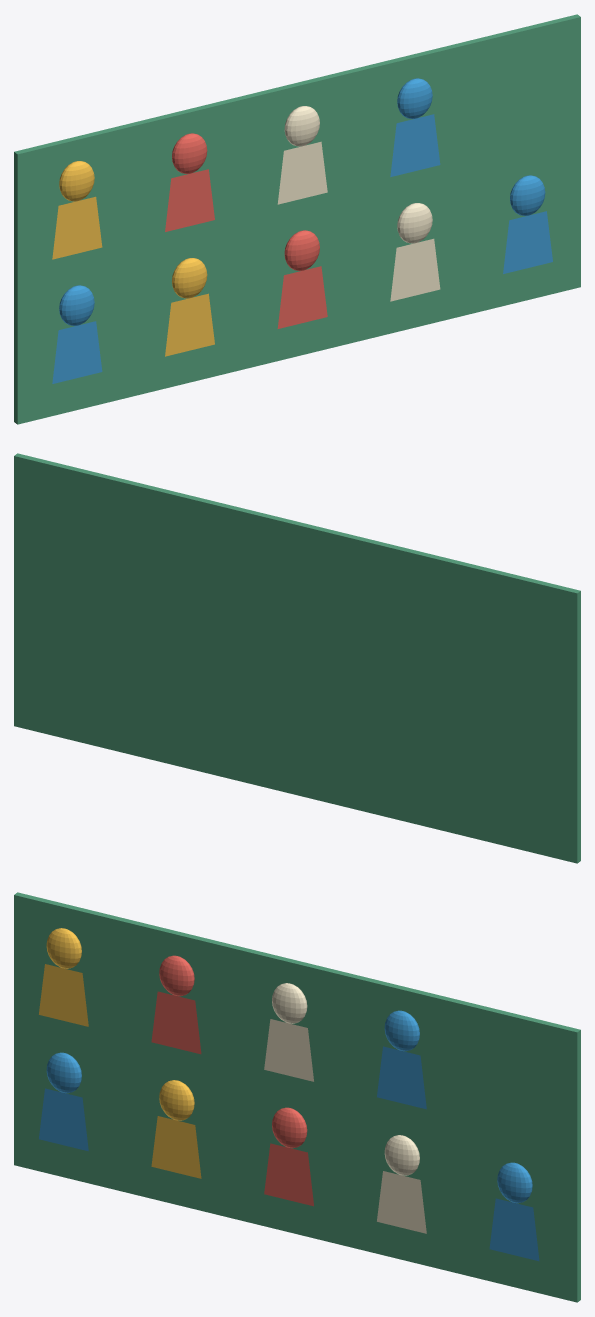
Rendered from crowd-impostor-card-set.glb.
The picture shows the model from 3 angles, top to bottom: view 1: azimuth 30°, elevation 25°; view 2: azimuth 150°, elevation 25°; view 3: azimuth 330°, elevation 25°; orthographic projection.
Parts seen in each view (by area): view 1: Crowd card | backing, Crowd card | torso 4, Crowd card | torso 6, Crowd card | torso 1, Crowd card | torso 8, Crowd card | torso 9, Crowd card | torso 2, Crowd card | torso 3, Crowd card | torso 5, Crowd card | torso 7, Crowd card | head 9, Crowd card | head 6 (+7 smaller); view 2: Crowd card | backing; view 3: Crowd card | backing, Crowd card | torso 5, Crowd card | torso 2, Crowd card | torso 7, Crowd card | torso 3, Crowd card | torso 1, Crowd card | torso 6, Crowd card | torso 8, Crowd card | torso 9, Crowd card | torso 4, Crowd card | head 2, Crowd card | head 1 (+7 smaller).
Part boxes in pixels (left/top/right/bottom): Crowd card | backing: left=14, top=14, right=580, bottom=424; Crowd card | torso 4: left=390, top=238, right=440, bottom=301; Crowd card | torso 6: left=52, top=196, right=102, bottom=259; Crowd card | torso 1: left=52, top=321, right=102, bottom=383; Crowd card | torso 8: left=277, top=141, right=327, bottom=204; Crowd card | torso 9: left=390, top=114, right=440, bottom=176; Crowd card | torso 2: left=165, top=293, right=214, bottom=356; Crowd card | torso 3: left=277, top=266, right=327, bottom=328; Crowd card | torso 5: left=503, top=211, right=552, bottom=273; Crowd card | torso 7: left=165, top=169, right=214, bottom=231; Crowd card | head 9: left=397, top=78, right=432, bottom=118; Crowd card | head 6: left=59, top=161, right=94, bottom=201; Crowd card | backing: left=14, top=453, right=580, bottom=863; Crowd card | backing: left=14, top=892, right=580, bottom=1302; Crowd card | torso 5: left=489, top=1198, right=539, bottom=1261; Crowd card | torso 2: left=151, top=1116, right=201, bottom=1178; Crowd card | torso 7: left=151, top=991, right=201, bottom=1054; Crowd card | torso 3: left=264, top=1143, right=313, bottom=1206; Crowd card | torso 1: left=39, top=1088, right=88, bottom=1151; Crowd card | torso 6: left=39, top=964, right=88, bottom=1026; Crowd card | torso 8: left=264, top=1019, right=313, bottom=1081; Crowd card | torso 9: left=377, top=1046, right=426, bottom=1109; Crowd card | torso 4: left=377, top=1171, right=426, bottom=1233; Crowd card | head 2: left=159, top=1080, right=194, bottom=1120; Crowd card | head 1: left=46, top=1052, right=81, bottom=1093.
Bounding box in the file's own units: 3.6 × 1.65 × 0.14.
